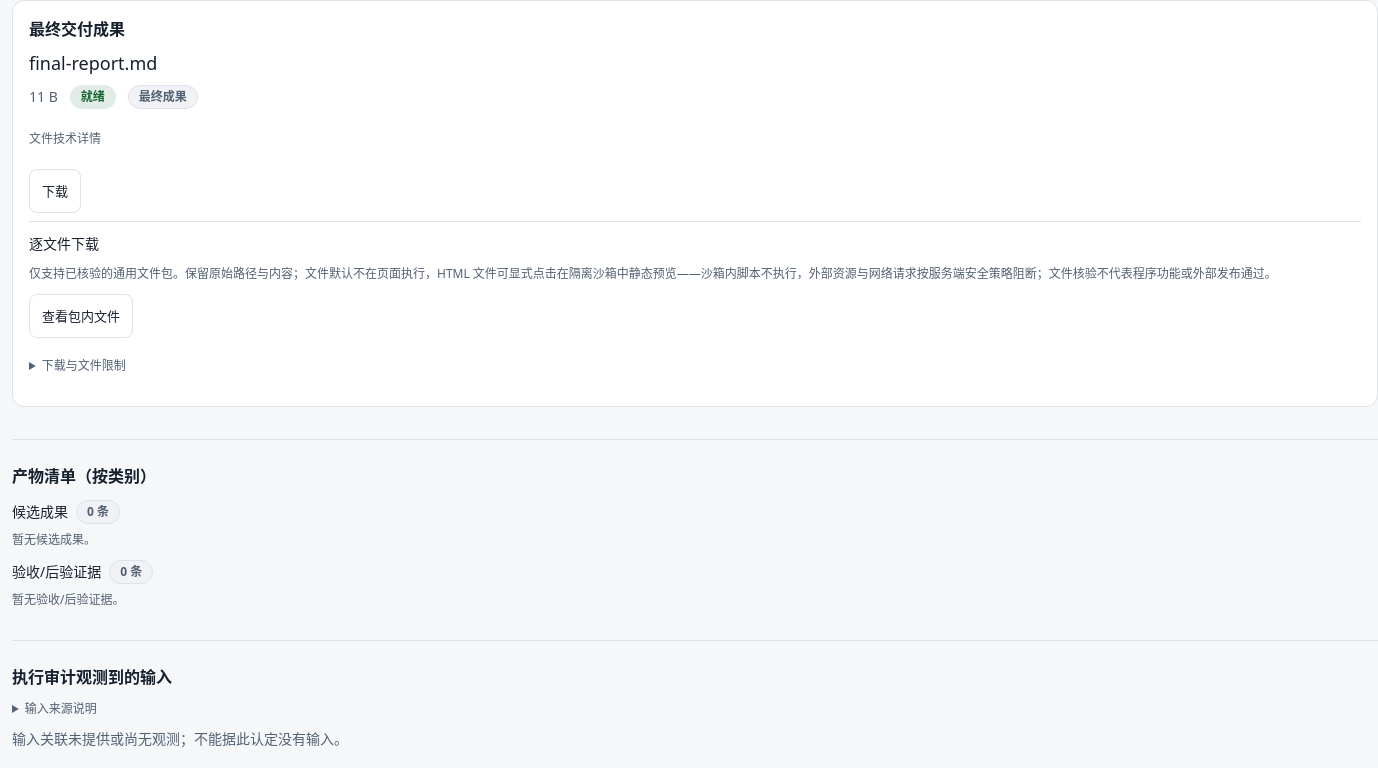
it: 成果页（P09 / E15–E19） › 下载服务错误显示 code 与 requestId
Click the button with test id "download-button". click: coordinates (55, 191)
box: [29,169,81,213]
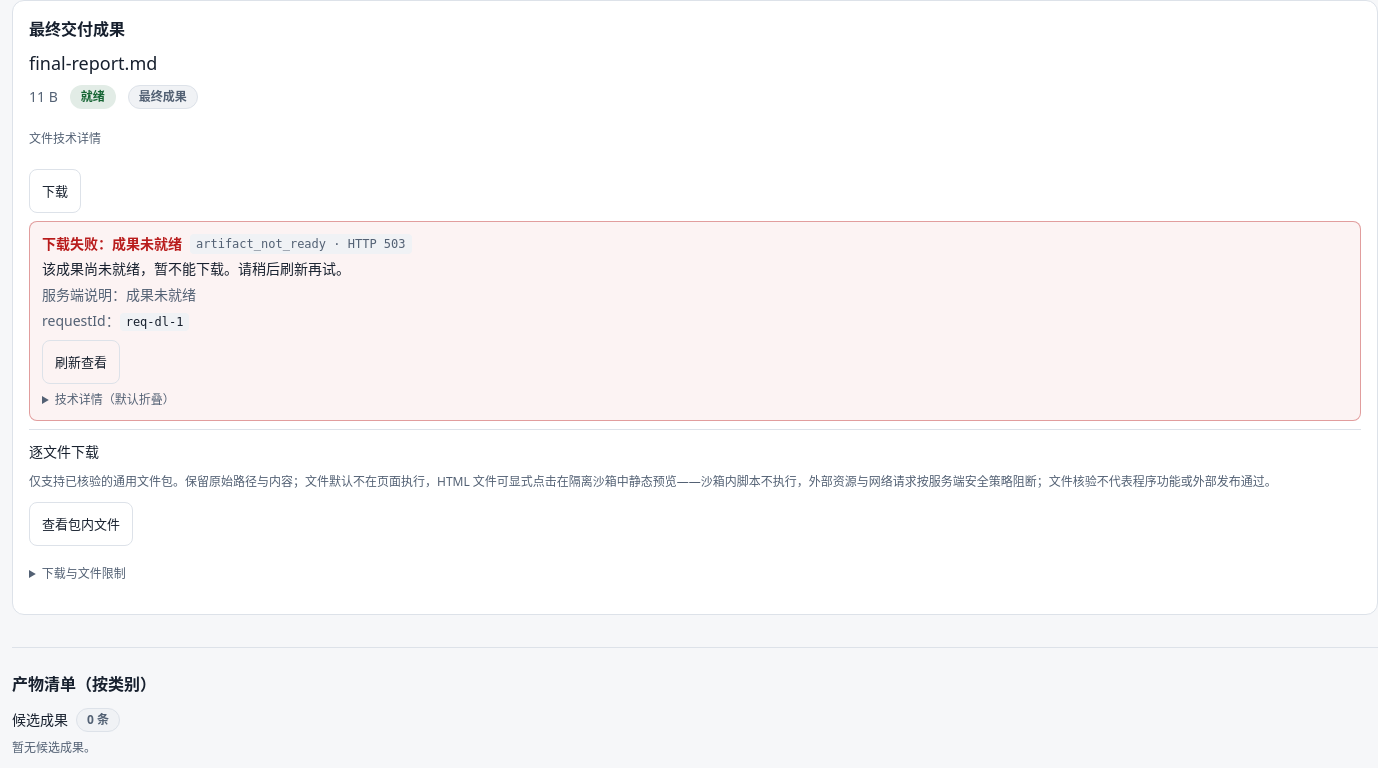
Expected: the message with test id "error-notice" shows "成果未就绪", [126,285,196,304]
Expected: the text with test id "error-request-id" reads "req-dl-1", [126,315,184,329]
